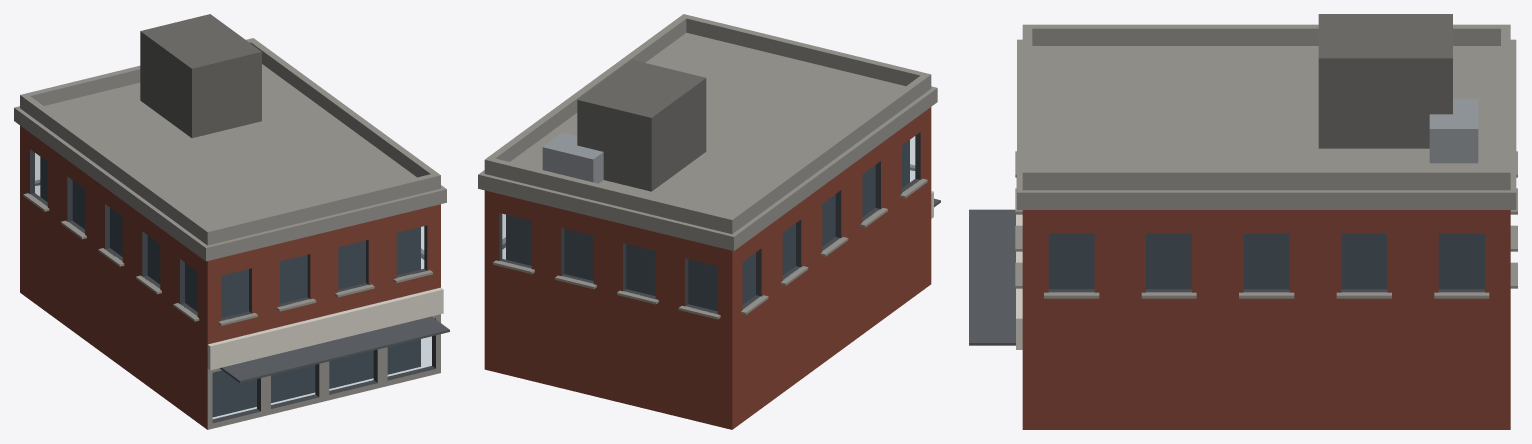
The model's file is shophouse-1.glb.
3 renders of one model, left to right at view 1: azimuth 30°, elevation 25°; view 2: azimuth 150°, elevation 25°; view 3: azimuth 270°, elevation 25°, orthographic. The views are drawn at different scales.
Visible parts, largest first — view 1: shophouse-1; view 2: shophouse-1; view 3: shophouse-1.
Part boxes in pixels (x1=…): shophouse-1: x1=14, y1=14, x2=449, y2=429; shophouse-1: x1=478, y1=14, x2=940, y2=429; shophouse-1: x1=969, y1=14, x2=1517, y2=429.
Size of the model in its own units: 9.52 by 9.5 by 14.31.
